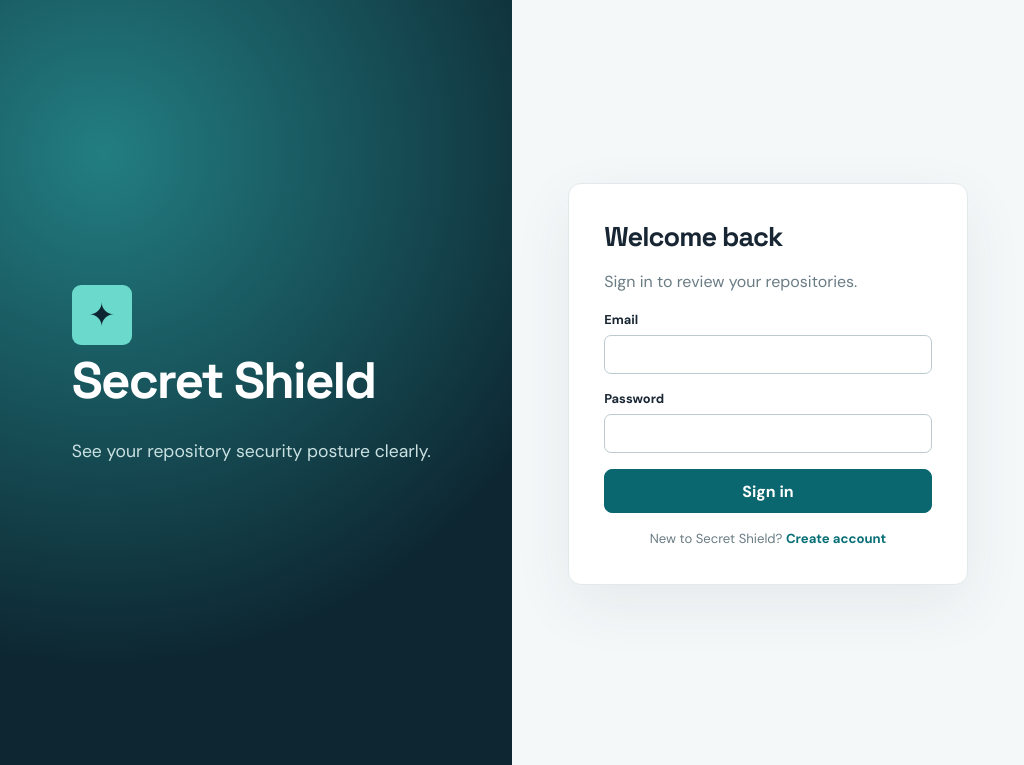
Test case: logs in, loads the dashboard, and redirects after the next request expires
In the field labelled "Email": (768, 354) [604,335,932,374], type "demo@example.invalid"
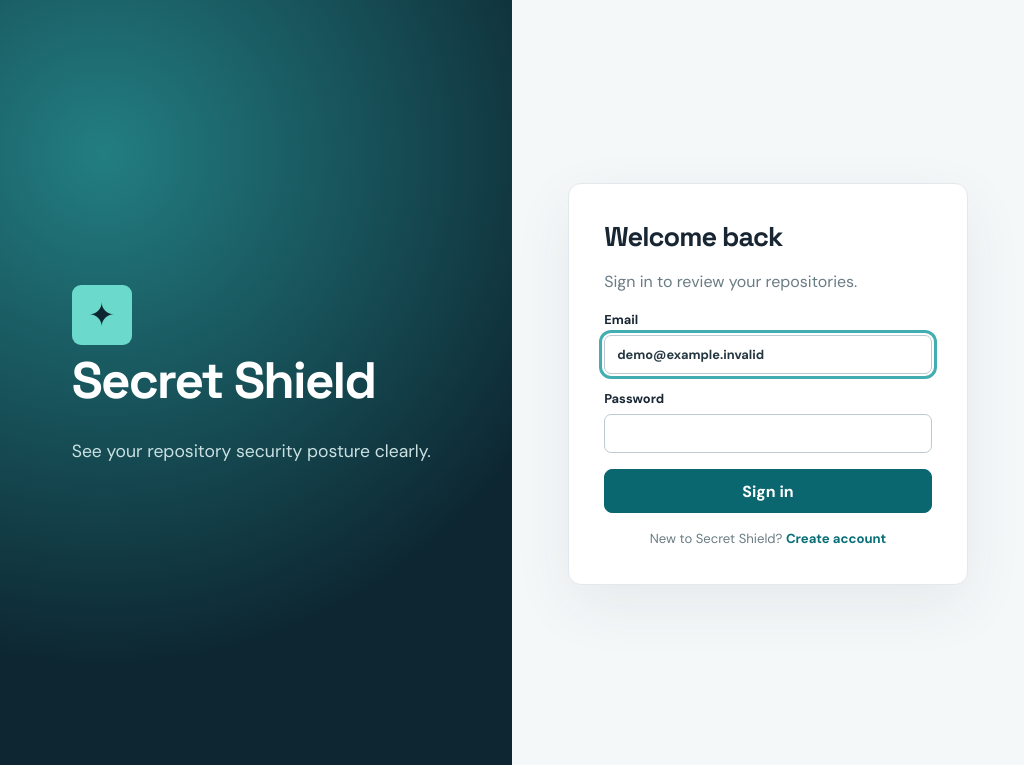
In the password field labelled "Password": (768, 434) [604,414,932,453], type "synthetic-pass"
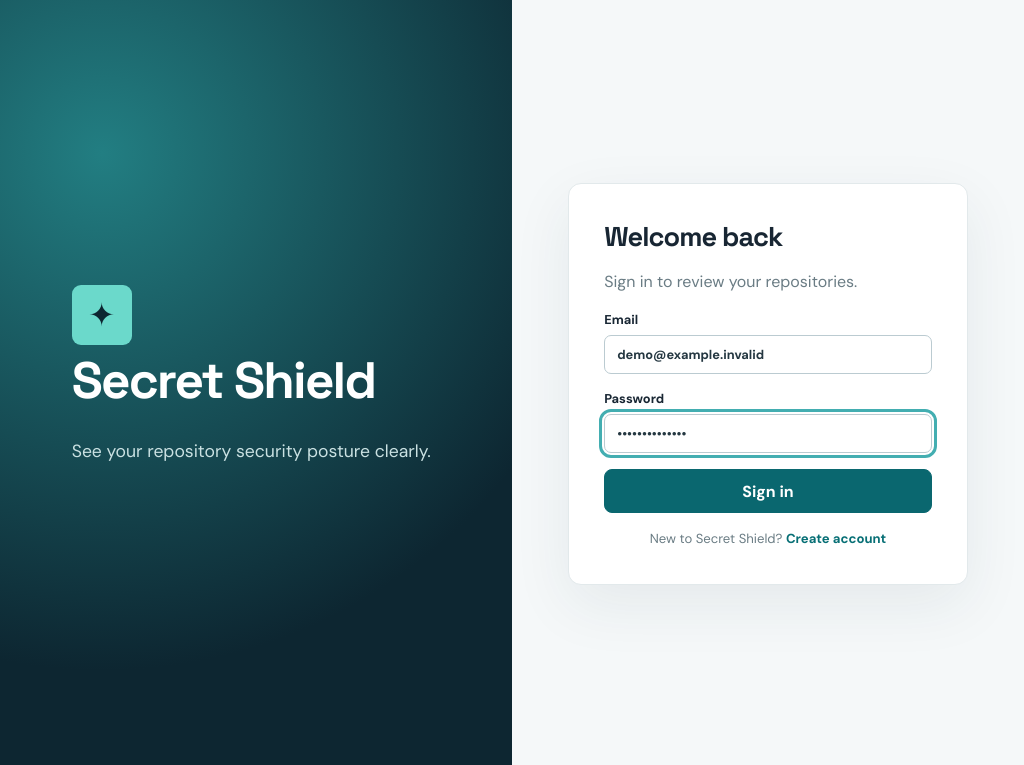
Click the button "Sign in": (768, 491) [604,469,932,513]
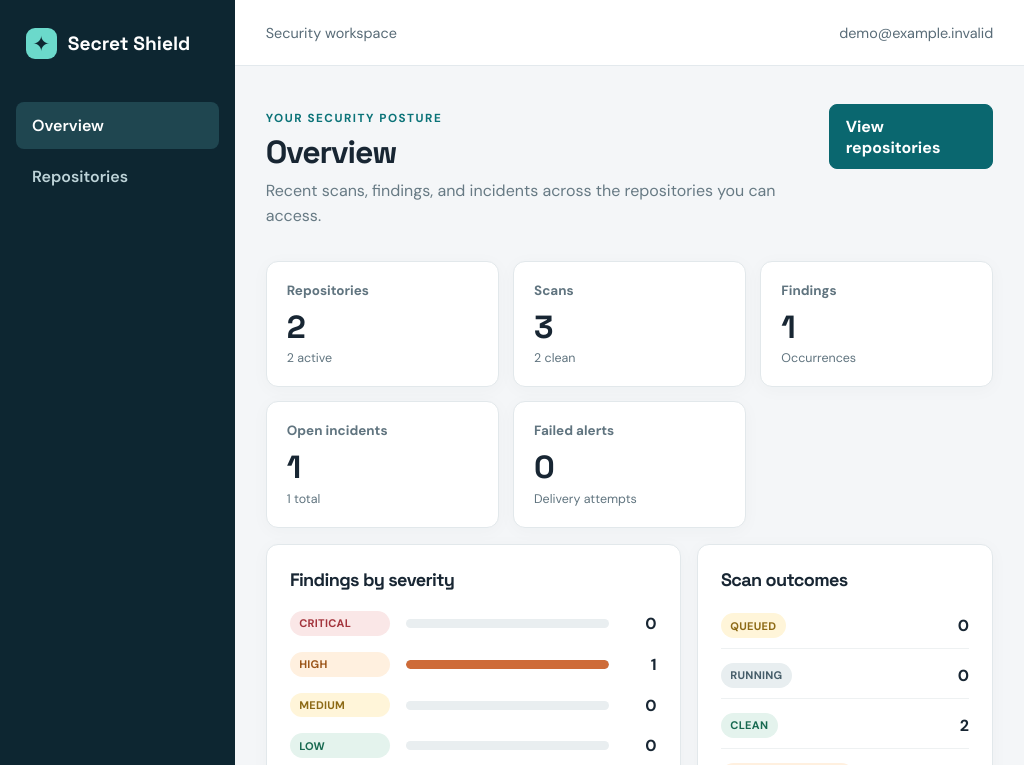
Expected: the heading "Overview" is shown, [266,132,396,172]
Expected: the heading "Findings by severity" is shown, [290,568,454,591]
Click the link "Repositories": (80, 177) [32,166,128,187]
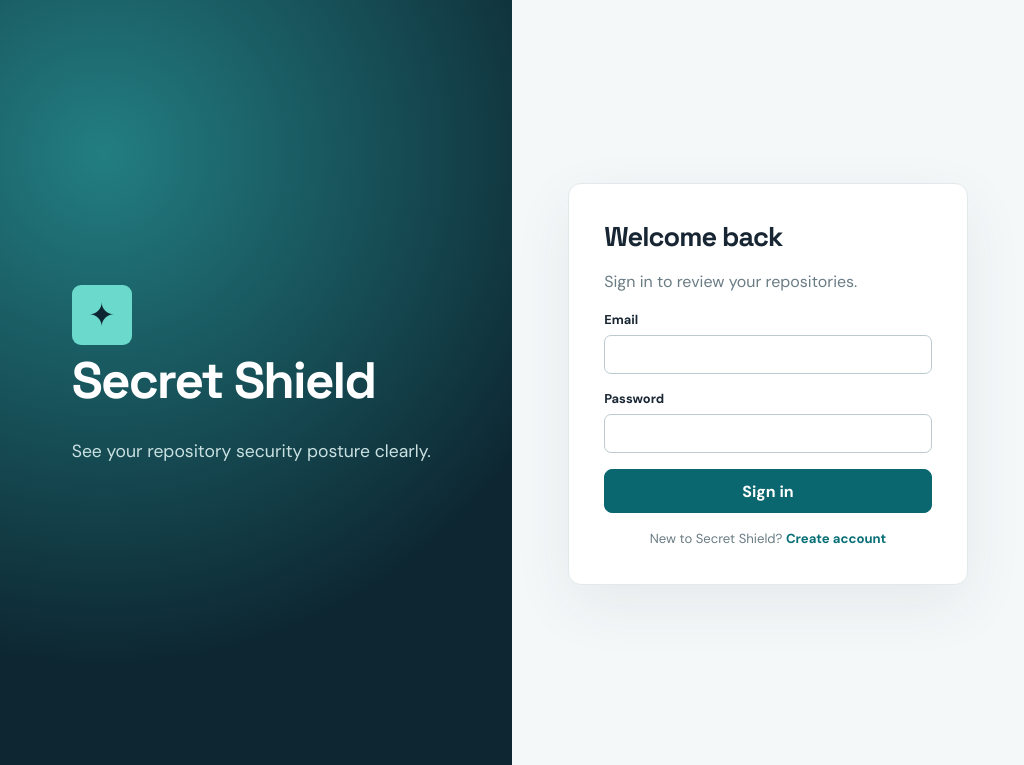
Expected: the heading "Welcome back" is shown, [604,219,782,254]
